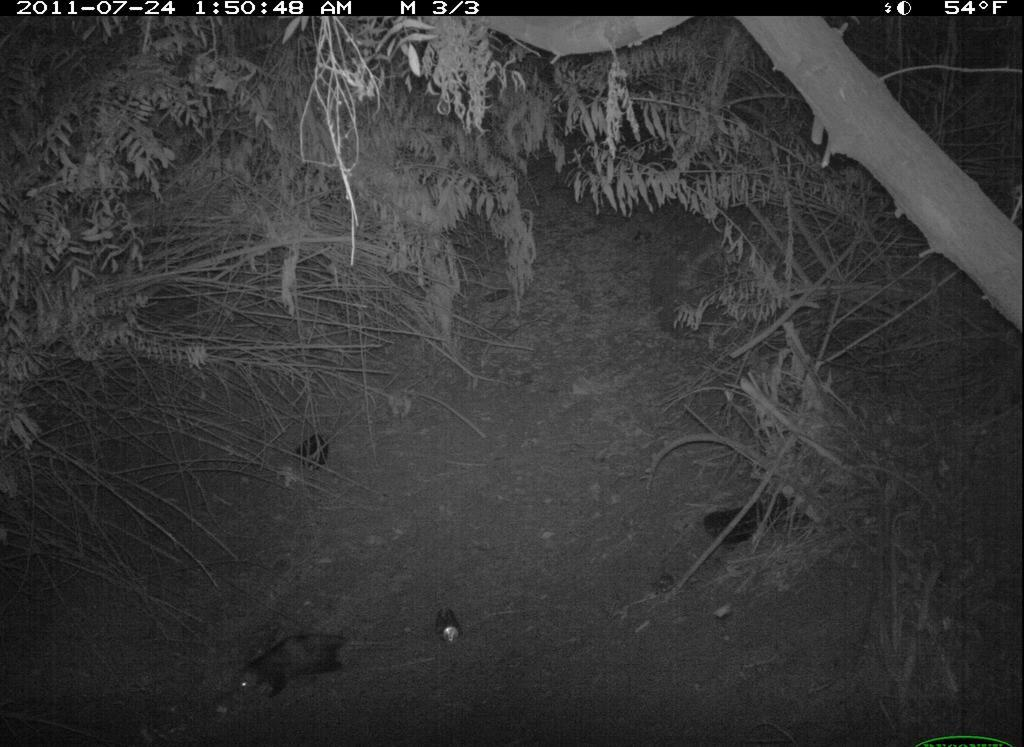opossum: (223, 620, 359, 708)
